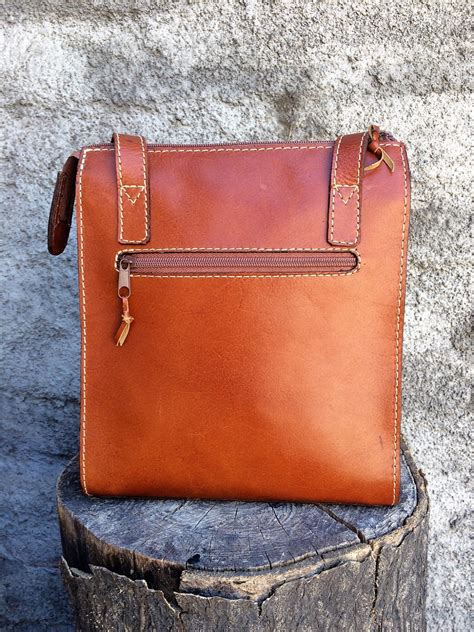cuero: (48, 124, 414, 506)
